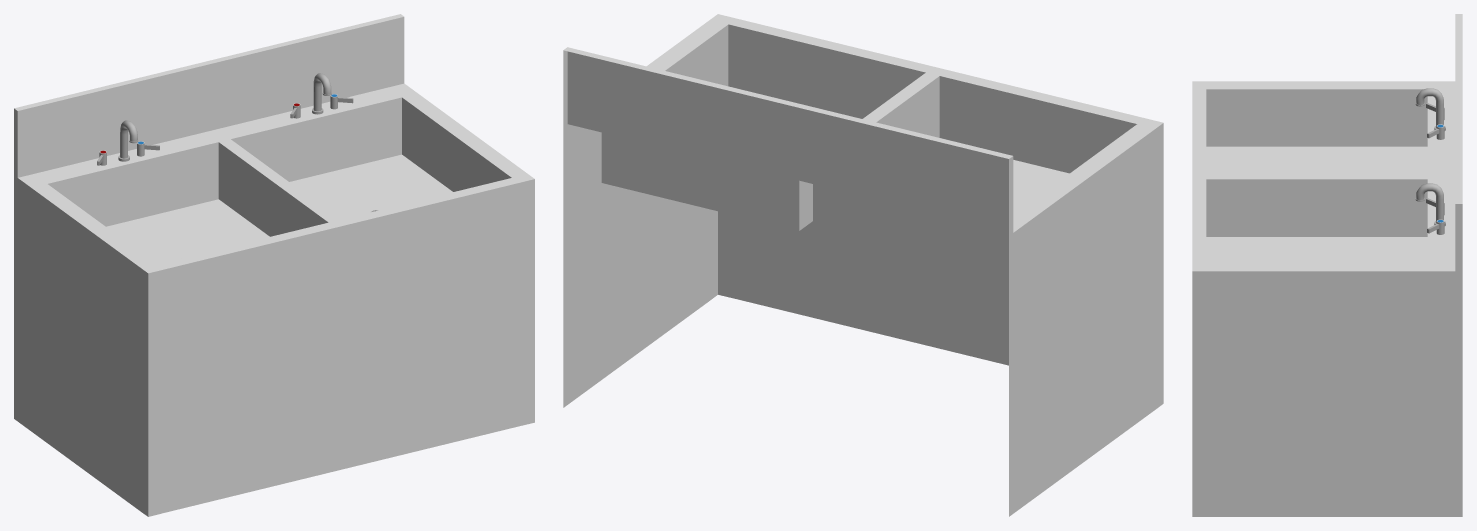
Rendered from Sink_02.FBX.
The picture shows the model from 3 angles, left to right: view 1: azimuth 30°, elevation 25°; view 2: azimuth 150°, elevation 25°; view 3: azimuth 270°, elevation 25°; orthographic projection. The views are drawn at different scales.
Visible parts, largest first — view 1: Sink; view 2: Sink; view 3: Sink.
Part boxes in pixels (bbox=[...]): Sink: bbox=[14, 14, 534, 516]; Sink: bbox=[563, 14, 1163, 516]; Sink: bbox=[1192, 14, 1462, 516].
Size of the model in its own units: 152 by 116 by 91.18.
